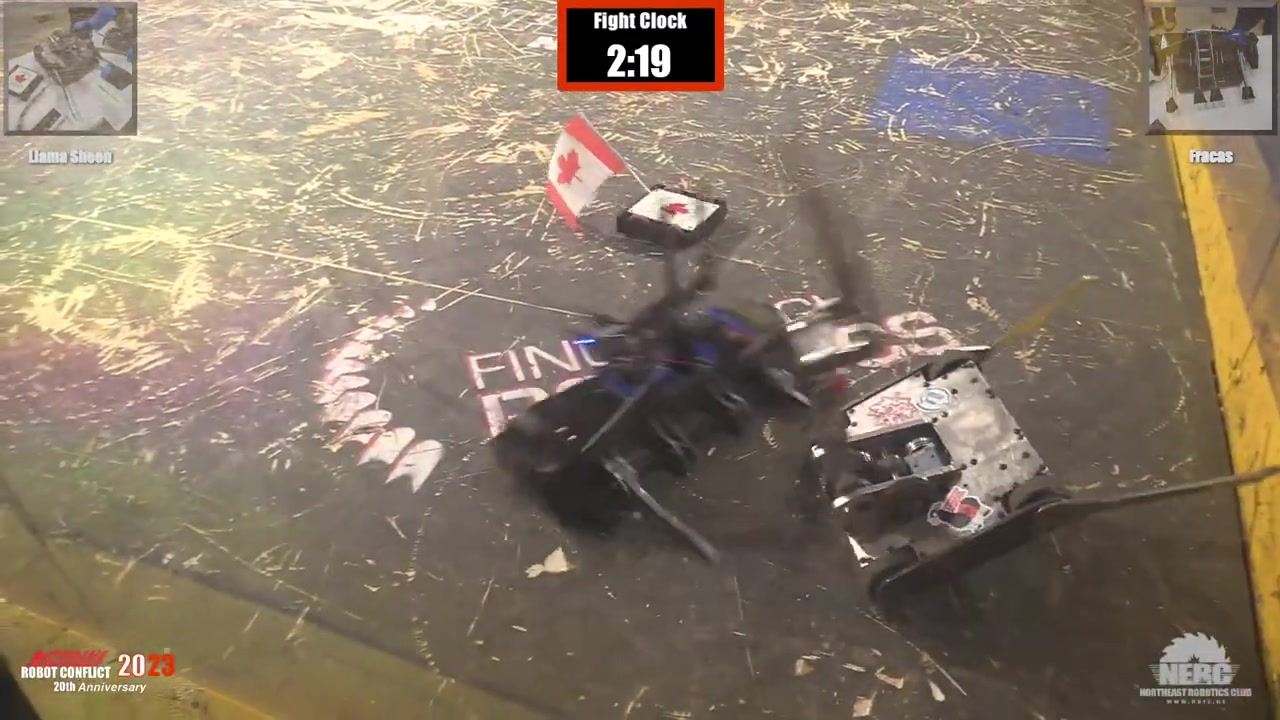combatbot: (492, 293, 797, 536), (811, 358, 1066, 602)
minibot: (619, 184, 725, 250)
